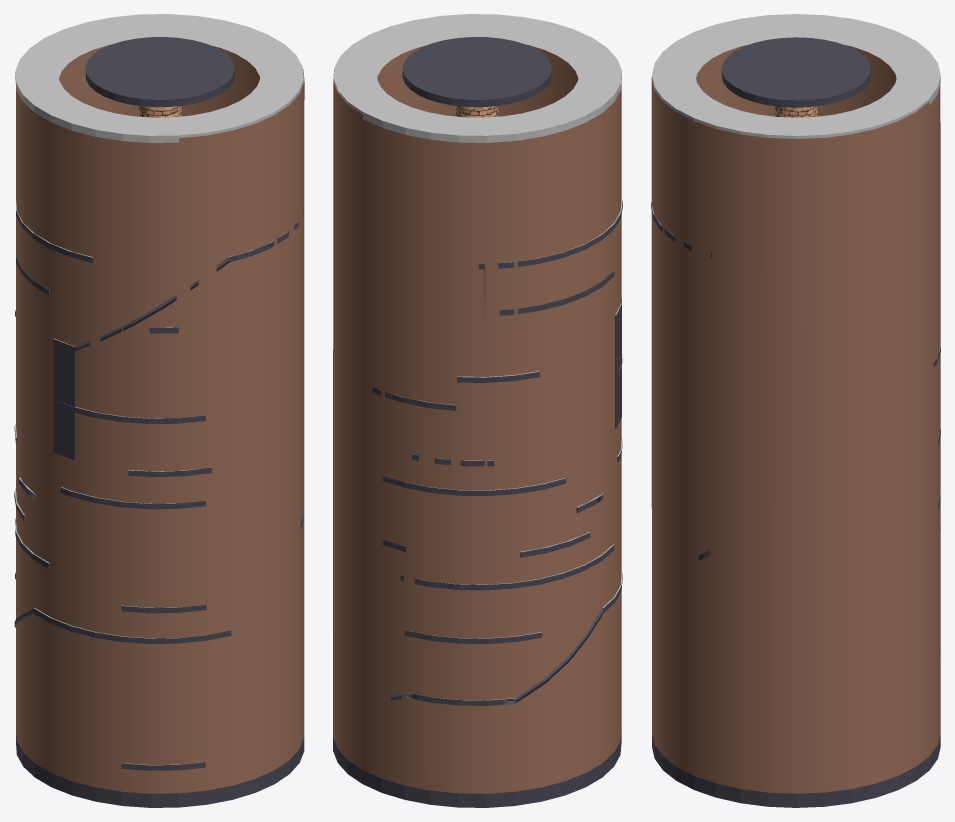
The model's file is tower_alpha.fbx.
3 renders of one model, left to right at view 1: azimuth 30°, elevation 25°; view 2: azimuth 150°, elevation 25°; view 3: azimuth 270°, elevation 25°, orthographic.
Visible parts, largest first — view 1: OuterWall, Basis, BaseFloor.001, BaseFloor, Platform.026, Platform.022, Platform.025, Platform.027, Platform.029, Ramp.002, Platform.019, Platform.001 (+1 smaller); view 2: OuterWall, Basis, BaseFloor.001, BaseFloor, Platform.003, Platform.009, Platform.002, Platform.025, Platform, Platform.026, Ramp, Platform.024 (+1 smaller); view 3: OuterWall, Basis, BaseFloor.001, BaseFloor.
Boxes of the visible parts, x1=… form: OuterWall: x1=16, y1=44, x2=304, y2=793; Basis: x1=15, y1=14, x2=303, y2=142; BaseFloor.001: x1=85, y1=37, x2=234, y2=107; BaseFloor: x1=16, y1=732, x2=304, y2=807; Platform.026: x1=53, y1=338, x2=75, y2=460; Platform.022: x1=34, y1=608, x2=231, y2=643; Platform.025: x1=16, y1=201, x2=303, y2=262; Platform.027: x1=60, y1=487, x2=205, y2=509; Platform.029: x1=60, y1=402, x2=205, y2=423; Ramp.002: x1=74, y1=257, x2=228, y2=351; Platform.019: x1=121, y1=604, x2=206, y2=613; Platform.001: x1=121, y1=762, x2=205, y2=770; OuterWall: x1=333, y1=45, x2=621, y2=793; Basis: x1=333, y1=14, x2=621, y2=142; BaseFloor.001: x1=402, y1=37, x2=551, y2=107; BaseFloor: x1=333, y1=729, x2=621, y2=807; Platform.003: x1=400, y1=544, x2=614, y2=590; Platform.009: x1=382, y1=475, x2=566, y2=496; Platform.002: x1=405, y1=630, x2=542, y2=643; Platform.025: x1=478, y1=200, x2=622, y2=269; Platform: x1=484, y1=267, x2=614, y2=316; Platform.026: x1=615, y1=303, x2=621, y2=428; Ramp: x1=390, y1=608, x2=603, y2=703; Platform.024: x1=406, y1=692, x2=515, y2=705; OuterWall: x1=651, y1=44, x2=940, y2=793; Basis: x1=652, y1=14, x2=940, y2=138; BaseFloor.001: x1=721, y1=37, x2=870, y2=107; BaseFloor: x1=652, y1=734, x2=940, y2=807.
Size of the model in its own units: 2410 by 6217 by 2408.
